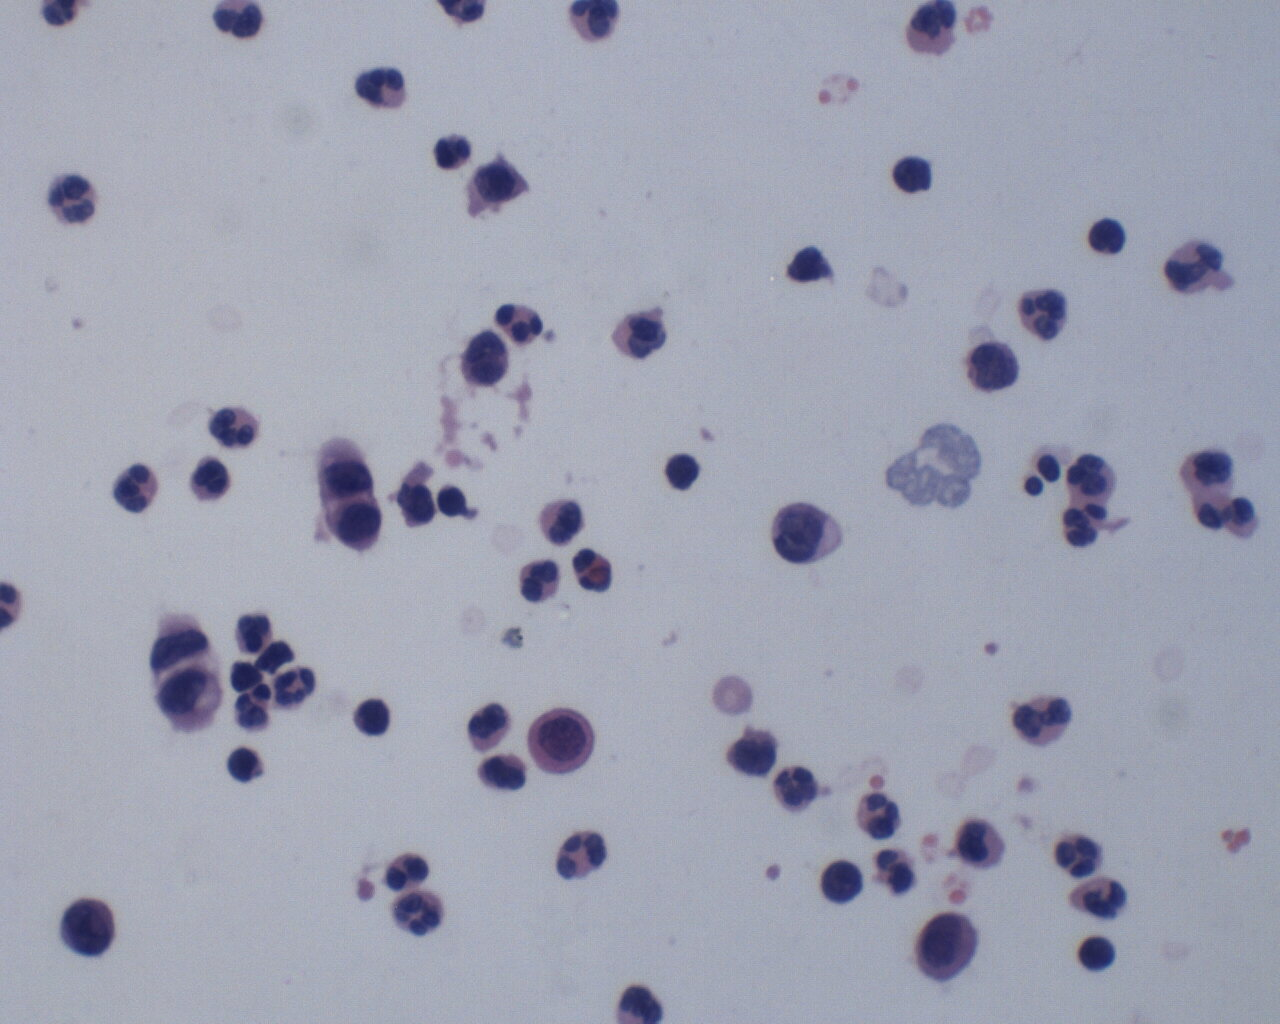ab: (767, 495, 851, 578), (907, 906, 983, 988), (527, 703, 599, 779), (56, 887, 122, 957), (317, 497, 385, 558)
lymph: (659, 443, 709, 501), (1076, 926, 1126, 977), (887, 150, 936, 197), (1085, 215, 1128, 260), (352, 697, 393, 739)
neutro: (1013, 689, 1078, 752), (1015, 282, 1073, 347), (46, 167, 103, 229), (553, 827, 614, 882), (353, 62, 414, 117), (387, 888, 447, 940), (1064, 447, 1121, 501), (771, 762, 825, 817), (109, 461, 163, 514), (207, 397, 259, 451), (854, 788, 904, 840), (1053, 830, 1104, 877), (494, 300, 546, 346), (518, 557, 565, 604), (271, 665, 317, 709)
